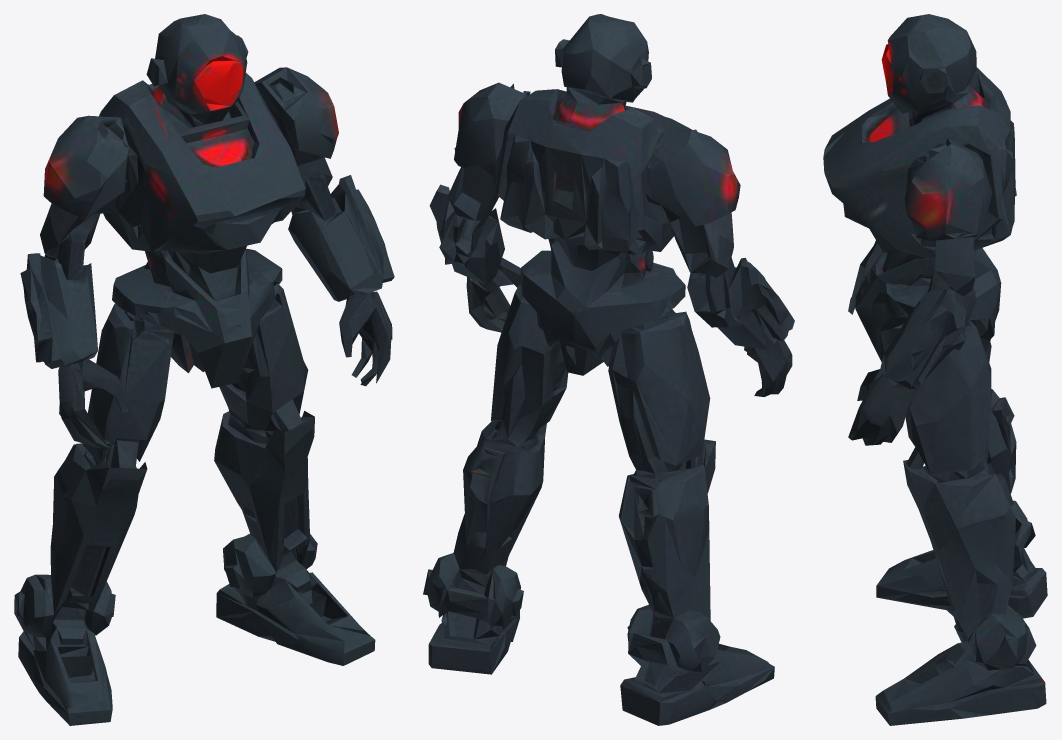
The model's file is sentinel.glb.
The picture shows the model from 3 angles, left to right: view 1: azimuth 30°, elevation 25°; view 2: azimuth 150°, elevation 25°; view 3: azimuth 270°, elevation 25°; orthographic projection. The views are drawn at different scales.
Size of the model in its own units: 1.07 by 1.89 by 0.6085.
Materials: 1 (1 with a texture image).
